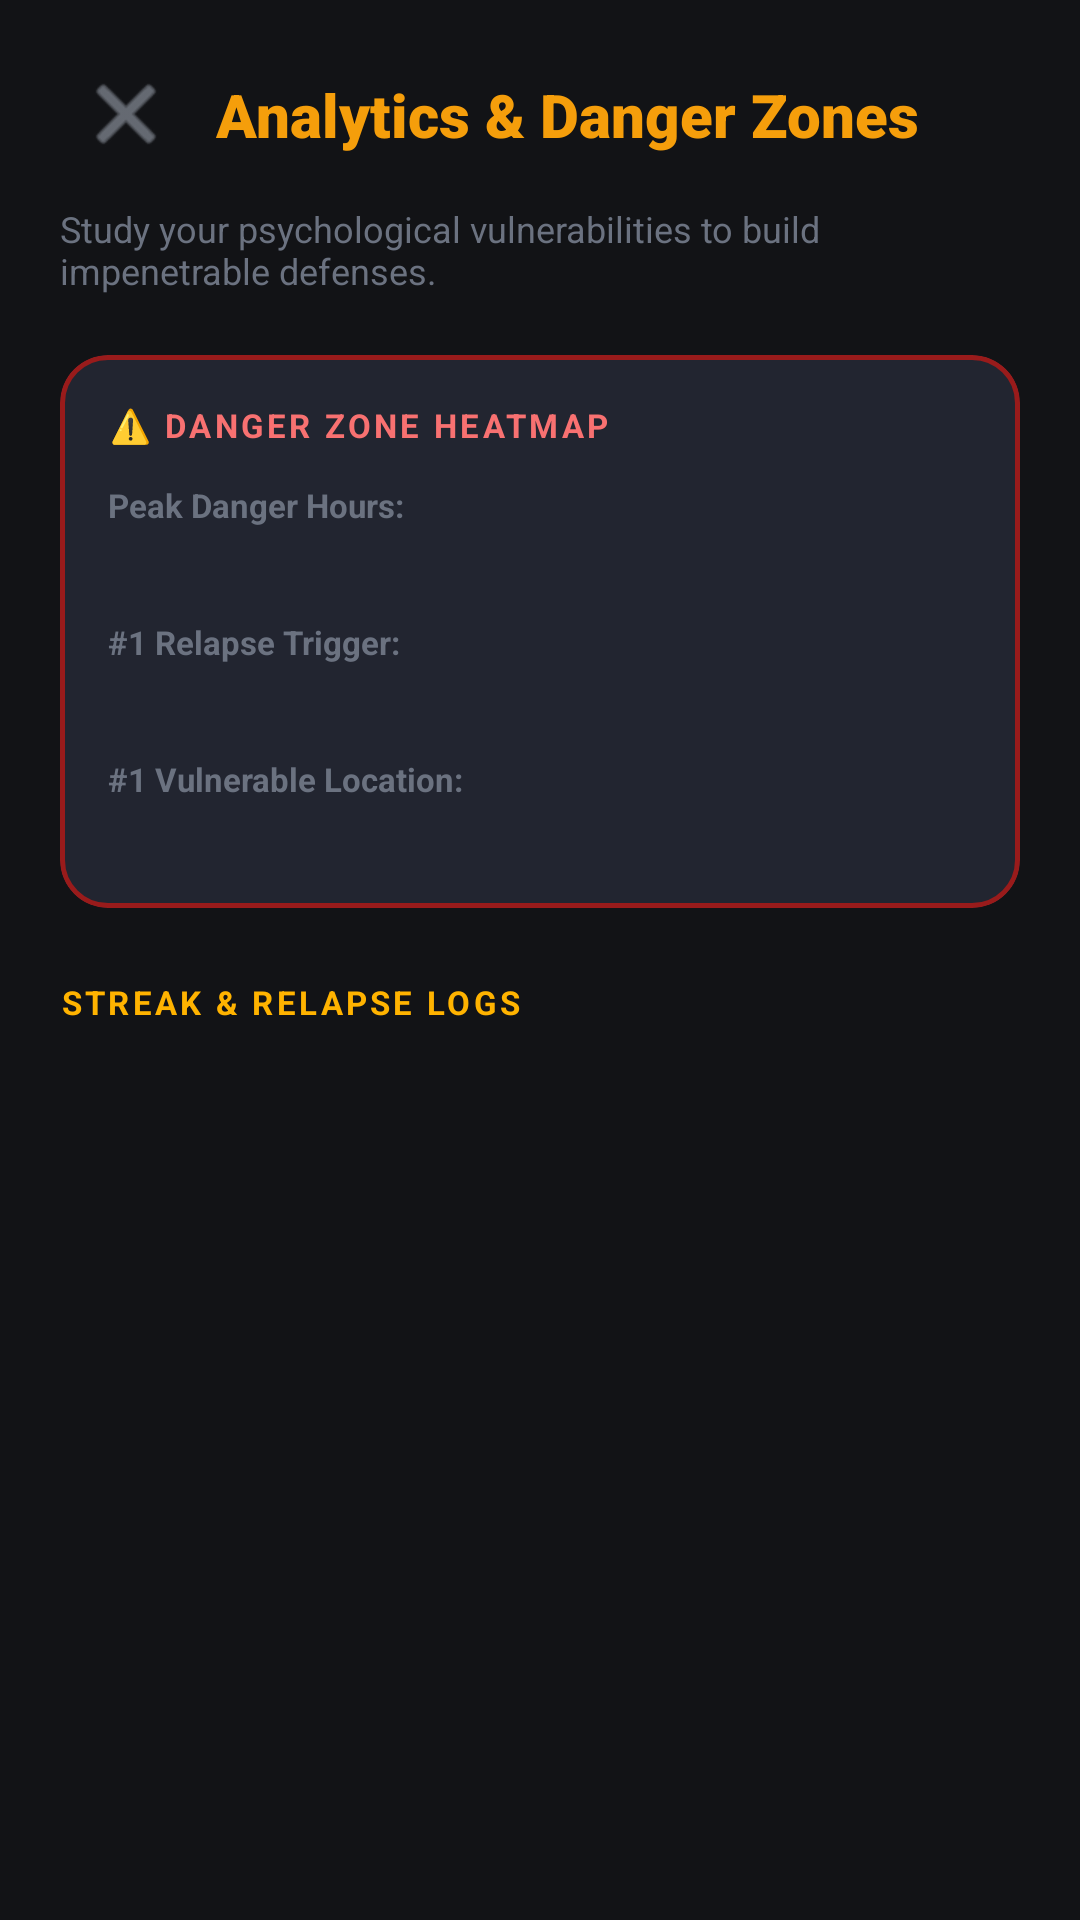

Named icons in this screenshot (1080px×1920px) and their bounding boxes, (x1, y1, x2, y2):
Back to Dashboard: (96, 84, 156, 144)
